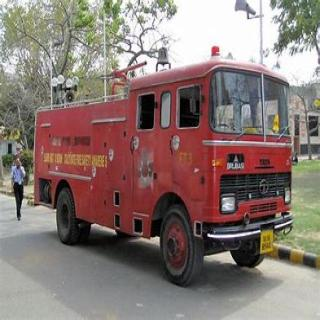Fire_truck: (32, 44, 294, 286)
